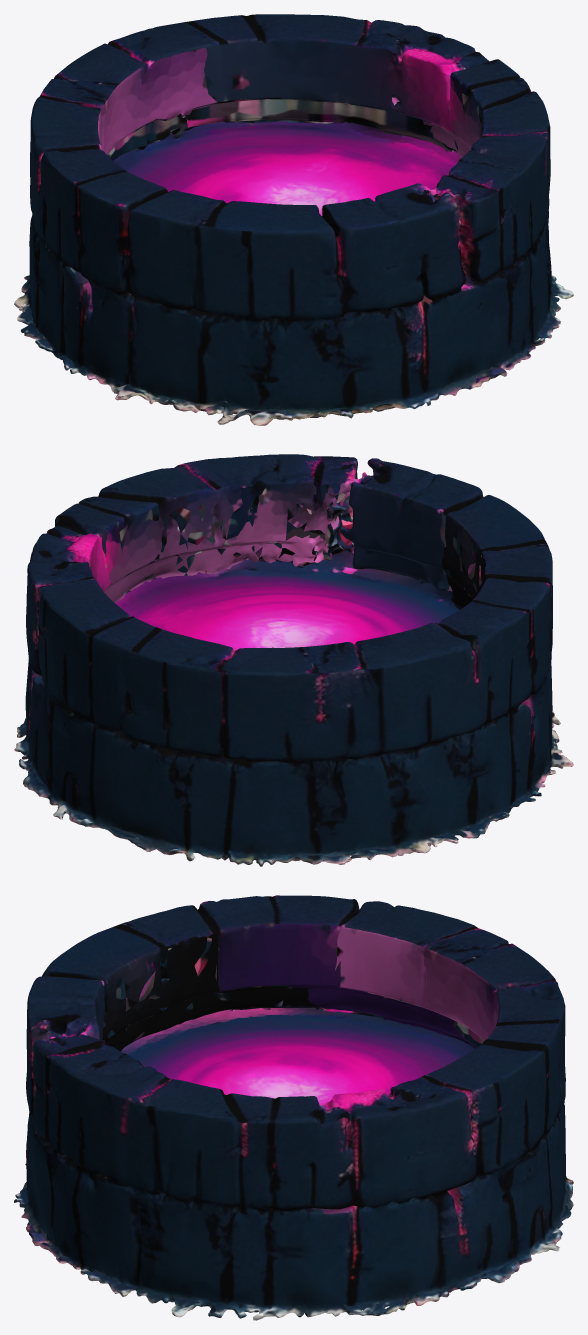
The model's file is well-of-mimir-pool-generated-2026-05-17T18-04-36-850Z.high.glb.
3 renders of one model, top to bottom at view 1: azimuth 30°, elevation 25°; view 2: azimuth 150°, elevation 25°; view 3: azimuth 270°, elevation 25°, orthographic. The views are drawn at different scales.
Visible parts, largest first — view 1: temp_mesh.ply; view 2: temp_mesh.ply; view 3: temp_mesh.ply.
Boxes of the visible parts, x1=… form: temp_mesh.ply: x1=14, y1=14, x2=573, y2=425; temp_mesh.ply: x1=14, y1=454, x2=573, y2=866; temp_mesh.ply: x1=14, y1=895, x2=573, y2=1320.
Bounding box in the file's own units: 1.97 × 0.7954 × 1.97.
1 material, 1 textured.
